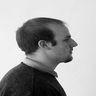ear: (36, 37, 53, 53)
